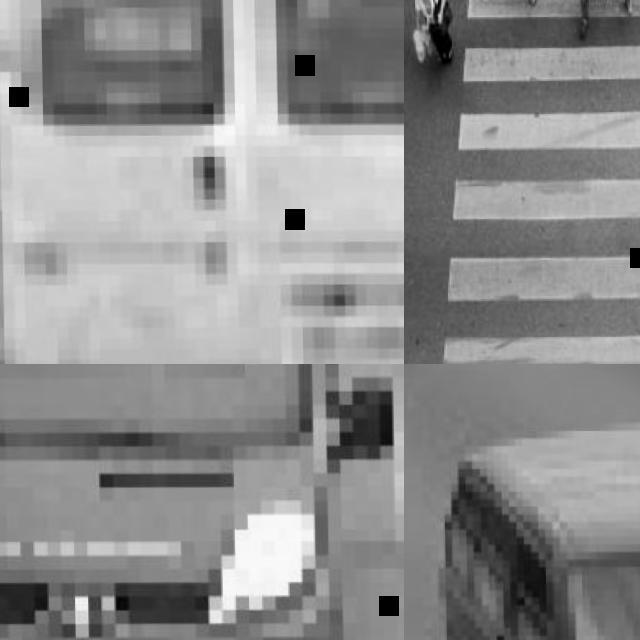car: (407, 1, 459, 68)
